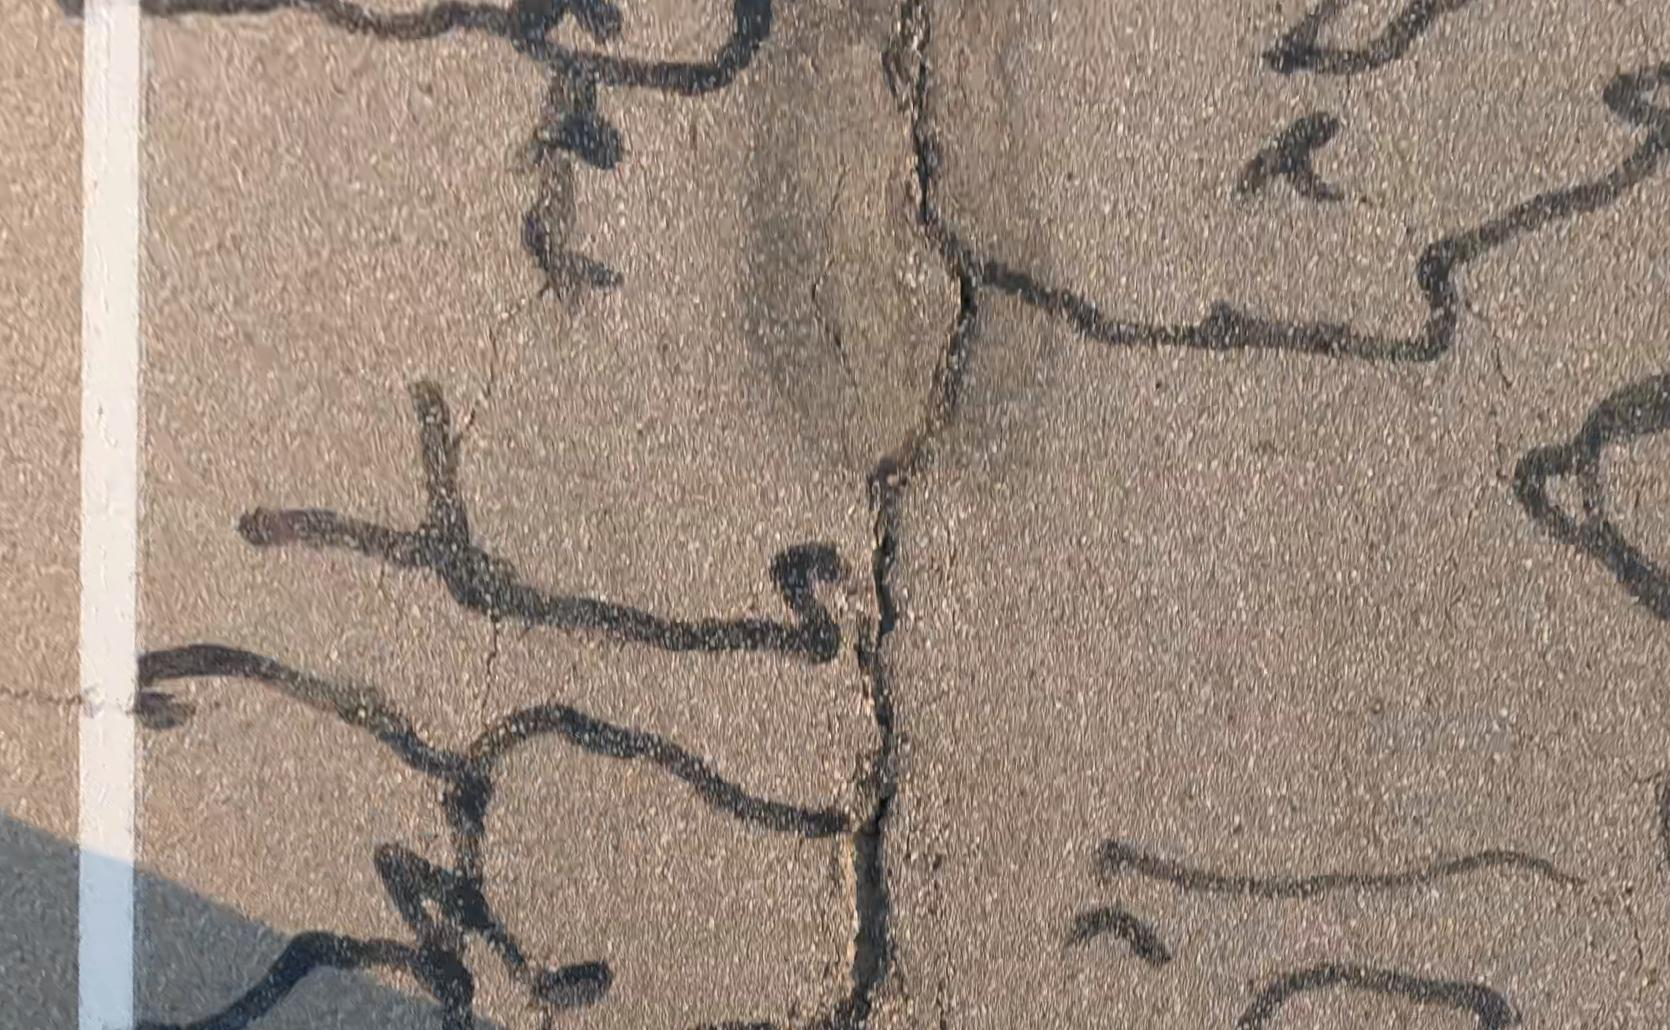pothole: (826, 760, 896, 1028)
